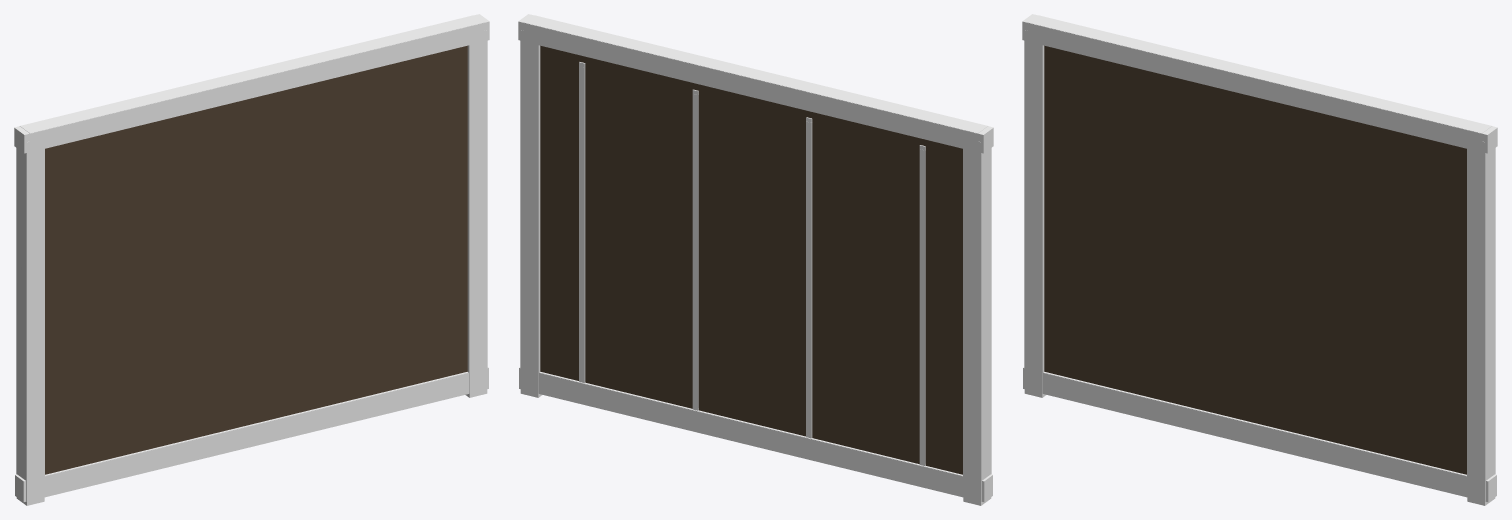
File: wall_wood.glb
The picture shows the model from 3 angles, left to right: view 1: azimuth 30°, elevation 25°; view 2: azimuth 150°, elevation 25°; view 3: azimuth 330°, elevation 25°; orthographic projection.
Visible parts, largest first — view 1: SM_WallWood; view 2: SM_WallWood; view 3: SM_WallWood.
Boxes of the visible parts, x1,y1,x2,y2 form: SM_WallWood: (14,14,489,505); SM_WallWood: (518,14,993,505); SM_WallWood: (1022,14,1497,505).
Bounding box in the file's own units: 4.1 × 3.13 × 0.16.
